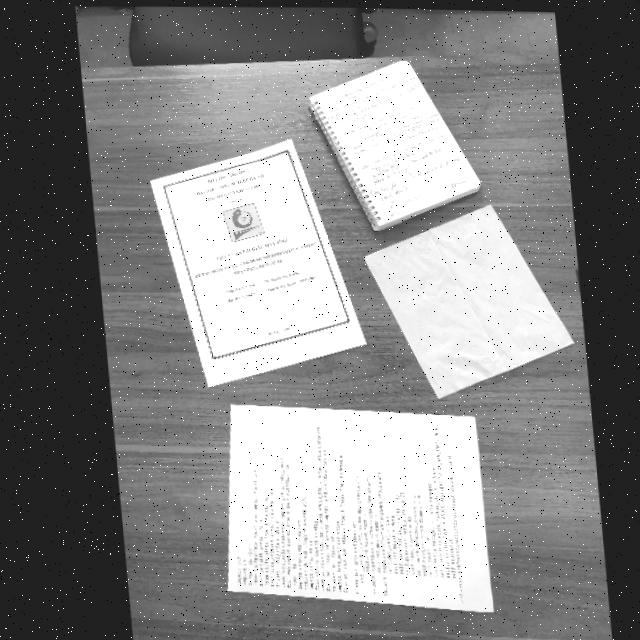document: (228, 405, 493, 612), (150, 139, 365, 386), (309, 61, 480, 230)
